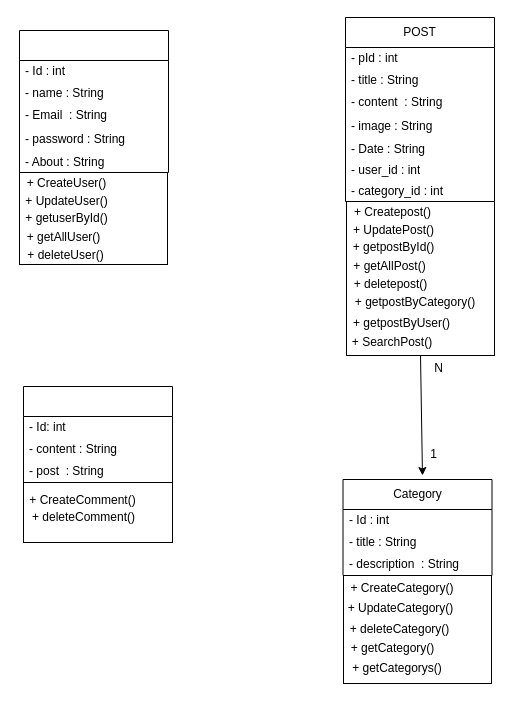
The diagram is 512 pixels wide and 701 high, and some of its shapes have lost their labels. The box of each missing label's shape, as (x1, y1, x2, y2) in pixels:
Comment: (22, 386, 172, 482)
USER: (18, 30, 168, 172)
